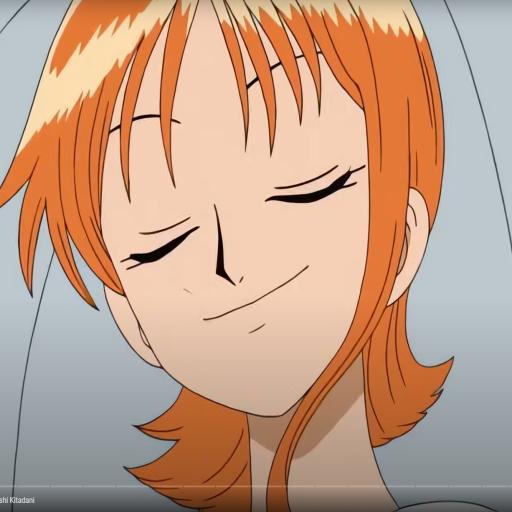Nami: (0, 0, 450, 511)
